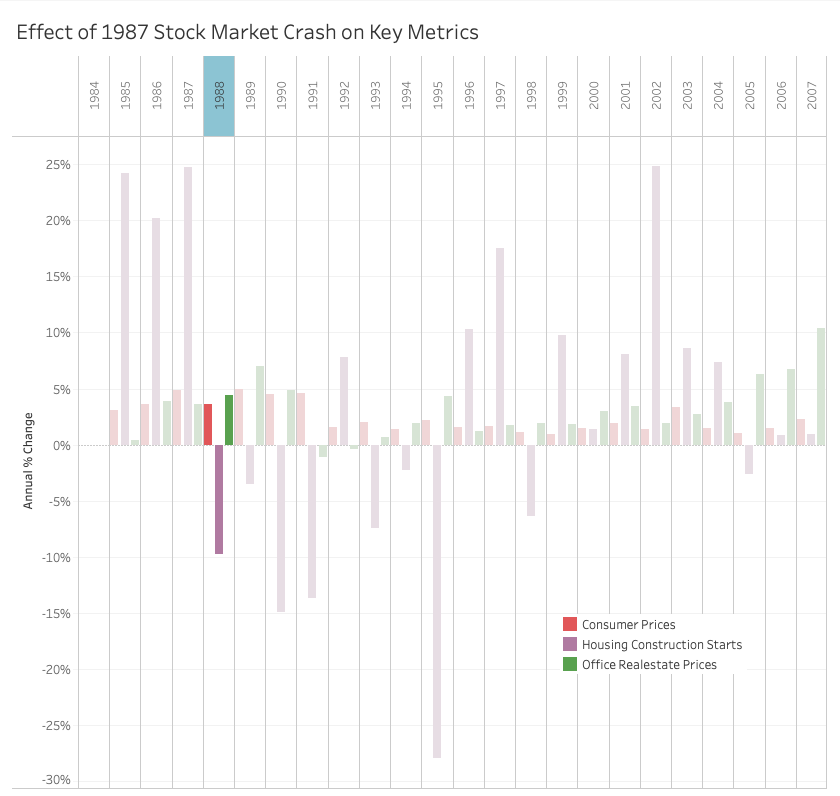

What the dashboard file says about the page in this screenshot:
{"tool":"tableau","page":{"name":"Task 8.2","canvas":[1000,800],"ordinal":6},"visuals":[{"type":"worksheet","title":"Task 8 |1987, 1992, 2000)","mark":"Bar","cols":["Year"],"box":[8,8,824,784]},{"type":"legend","title":"Task 8 |1987, 1992, 2000)","param":"[federated.1okl8ay0m9et4017je1rc01q96pp].[:Measure Names]","box":[560,613,187,60]}]}

Visuals, with their boxes on the page's 1000x800 design canvas (x1, y1, x2, y2). These are canvas units, not pixel positions in the 840x796 screenshot, which may show the page scaled, cropped or inside an application window:
"Task 8 |1987, 1992, 2000)" worksheet (Bar marks): left=8, top=8, right=832, bottom=792
"Task 8 |1987, 1992, 2000)" legend: left=560, top=613, right=747, bottom=673
